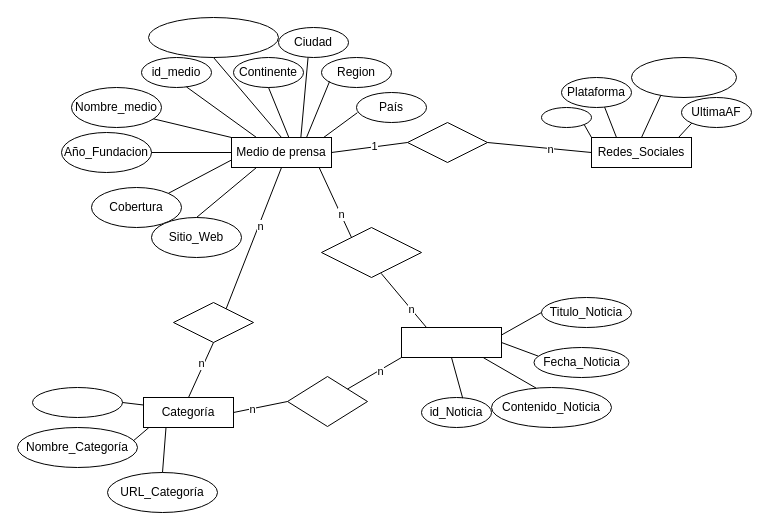
Image size: 769x530. Some labels were removed from this diagram. The box of each missing label's shape, as (x1, y1, x2, y2) in pixels:
Contiene: (320, 226, 422, 278)
id_Categoría: (32, 386, 122, 418)
Link: (540, 106, 592, 128)
Nombre_Fundadores: (148, 16, 278, 58)
Nombre_Usuario: (630, 56, 736, 98)
Noticia: (400, 326, 502, 358)
Pertenece: (286, 376, 368, 426)
posee: (406, 122, 488, 162)
Tiene: (172, 302, 254, 342)
